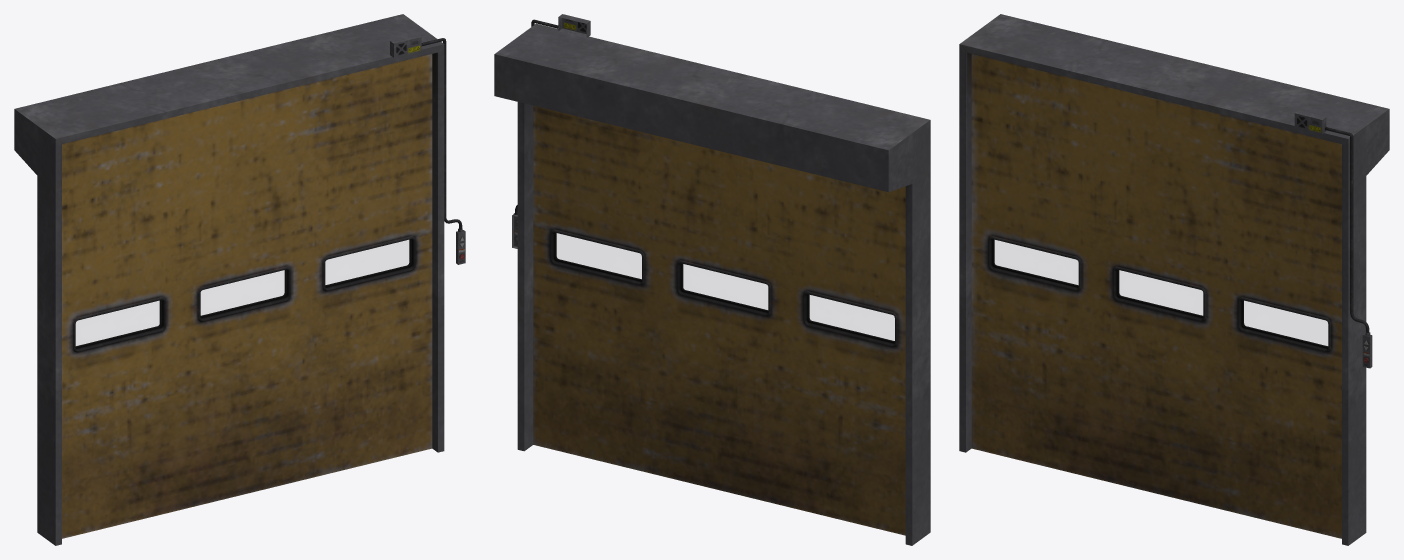
File: Rollup Door 6.glb
3 renders of one model, left to right at view 1: azimuth 30°, elevation 25°; view 2: azimuth 150°, elevation 25°; view 3: azimuth 330°, elevation 25°, orthographic.
Parts seen in each view (by area): view 1: Rollup_Door_6_Door, Rollup_Door_6_Door_Frame, Rollup_Door_6_Control_Switch; view 2: Rollup_Door_6_Door, Rollup_Door_6_Door_Frame, Rollup_Door_6_Control_Switch; view 3: Rollup_Door_6_Door, Rollup_Door_6_Door_Frame, Rollup_Door_6_Control_Switch.
Part boxes in pixels (box(x1,y1,x2,y2)): Rollup_Door_6_Door: box(62, 54, 432, 538); Rollup_Door_6_Door_Frame: box(14, 14, 444, 545); Rollup_Door_6_Control_Switch: box(390, 34, 465, 264); Rollup_Door_6_Door: box(533, 105, 905, 535); Rollup_Door_6_Door_Frame: box(494, 23, 930, 545); Rollup_Door_6_Control_Switch: box(512, 14, 590, 248); Rollup_Door_6_Door: box(971, 54, 1341, 538); Rollup_Door_6_Door_Frame: box(959, 14, 1389, 545); Rollup_Door_6_Control_Switch: box(1294, 110, 1372, 368).
Bounding box in the file's own units: 3.17 × 3.1 × 0.5721.
2 materials, 2 textured.
